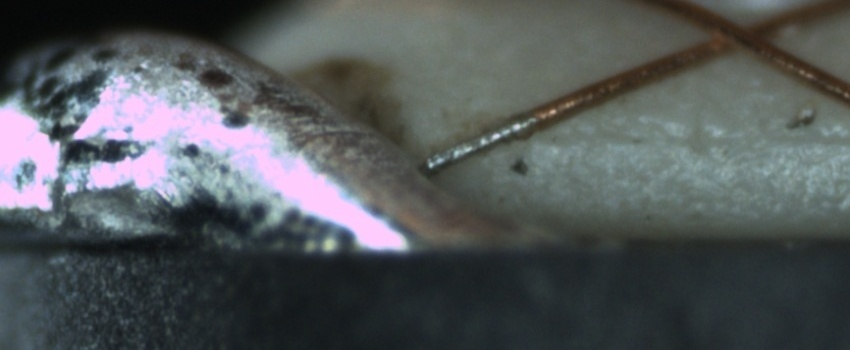CL: (692, 4, 785, 63)
DL: (528, 106, 850, 170)
TS: (419, 113, 537, 176)
